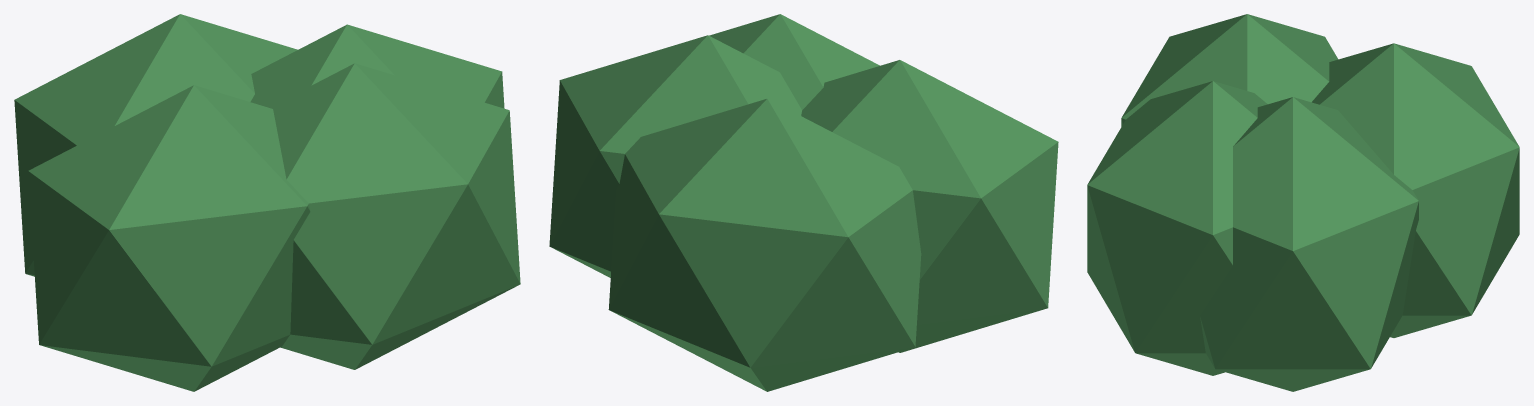
Rendered from bush.fbx.
The picture shows the model from 3 angles, left to right: view 1: azimuth 30°, elevation 25°; view 2: azimuth 150°, elevation 25°; view 3: azimuth 270°, elevation 25°; orthographic projection. The views are drawn at different scales.
Visible parts, largest first — view 1: Leaves.002, Leaves.003, Leaves.001, Leaves; view 2: Leaves.001, Leaves.002, Leaves, Leaves.003; view 3: Leaves, Leaves.003, Leaves.001, Leaves.002.
Part boxes in pixels (bbox=[...]): Leaves.002: bbox=[28, 85, 310, 391]; Leaves.003: bbox=[269, 63, 520, 369]; Leaves.001: bbox=[14, 14, 297, 276]; Leaves: bbox=[250, 24, 504, 108]; Leaves.001: bbox=[608, 98, 921, 391]; Leaves.002: bbox=[801, 60, 1058, 352]; Leaves: bbox=[549, 35, 801, 277]; Leaves.003: bbox=[709, 14, 879, 109]; Leaves: bbox=[1200, 97, 1418, 391]; Leaves.003: bbox=[1087, 81, 1267, 375]; Leaves.001: bbox=[1312, 43, 1519, 337]; Leaves.002: bbox=[1121, 14, 1338, 126].
Bounding box in the file's own units: 183 × 110 × 146.
